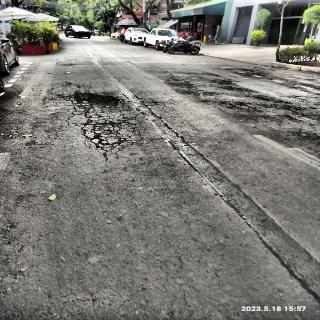alligator-crack: (67, 84, 136, 155)
pothole: (75, 90, 118, 107)
